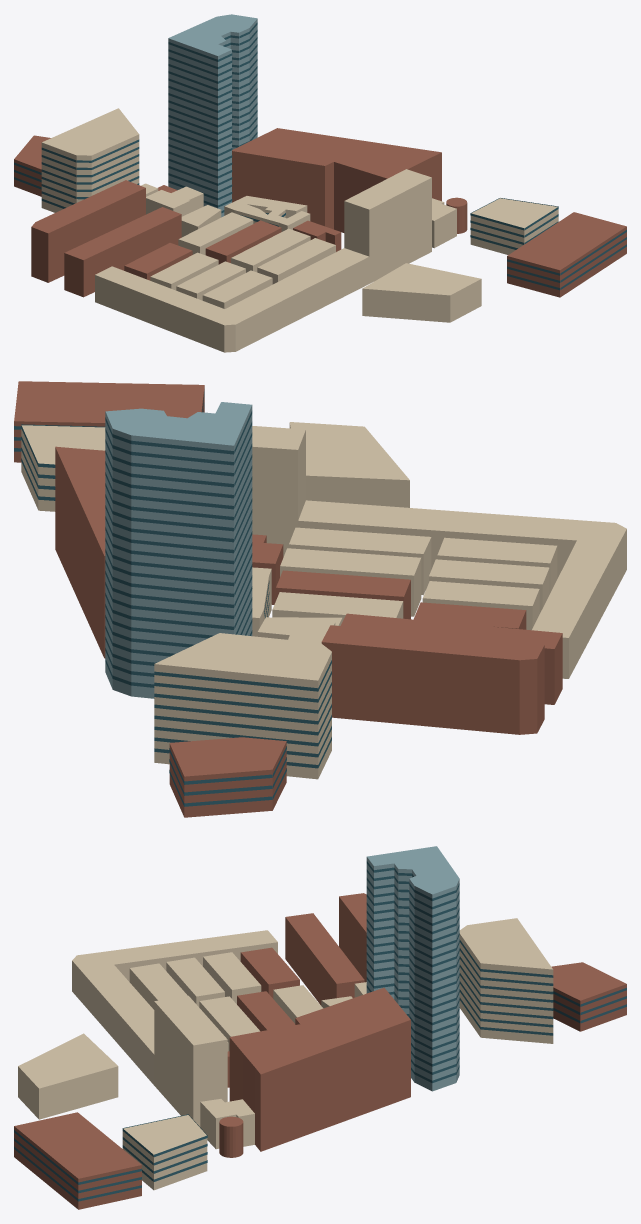
The model's file is city_-1_-3.glb.
3 renders of one model, top to bottom at view 1: azimuth 30°, elevation 25°; view 2: azimuth 150°, elevation 25°; view 3: azimuth 270°, elevation 25°, orthographic. The views are drawn at different scales.
Parts seen in each view (by area): view 1: city_-1_-3; view 2: city_-1_-3; view 3: city_-1_-3.
Boxes of the visible parts, x1,y1,x2,y2 form: city_-1_-3: [14, 14, 626, 352]; city_-1_-3: [14, 381, 626, 817]; city_-1_-3: [14, 846, 626, 1209].
Bounding box in the file's own units: 270 × 95.2 × 269.
